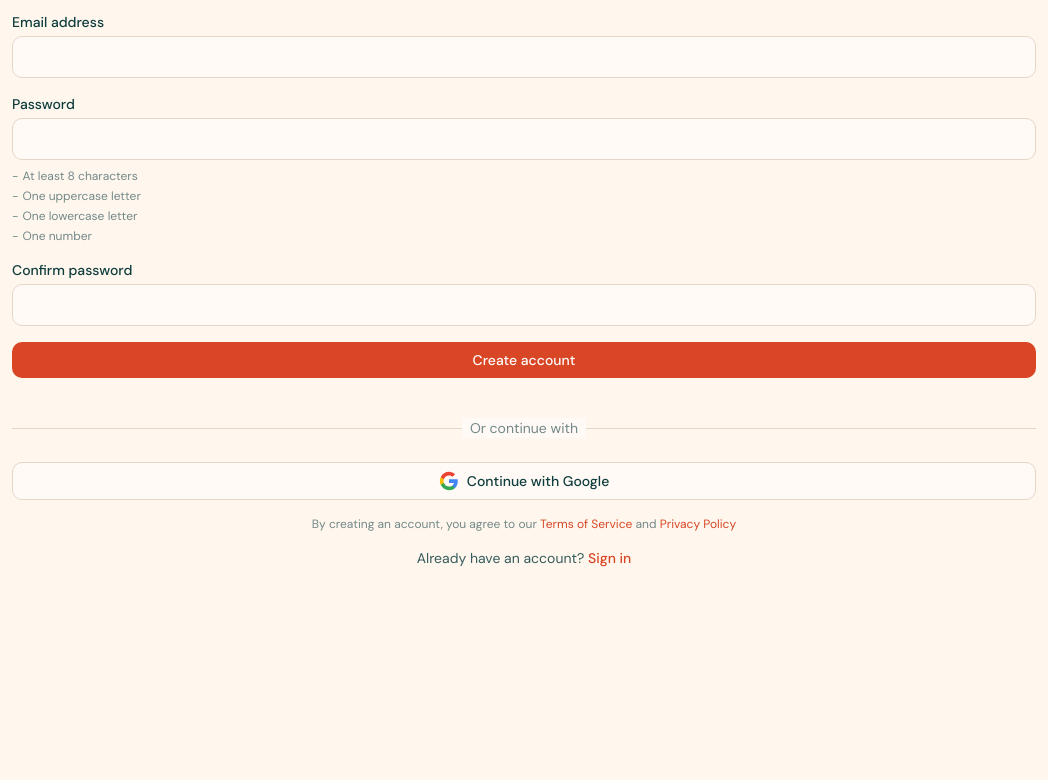
components/auth/SignupForm › shows validation error for weak password
Type "test@example.com" into the field labelled "Email address".
click(524, 57); type("test@example.com")  # box [12, 36, 1036, 78]
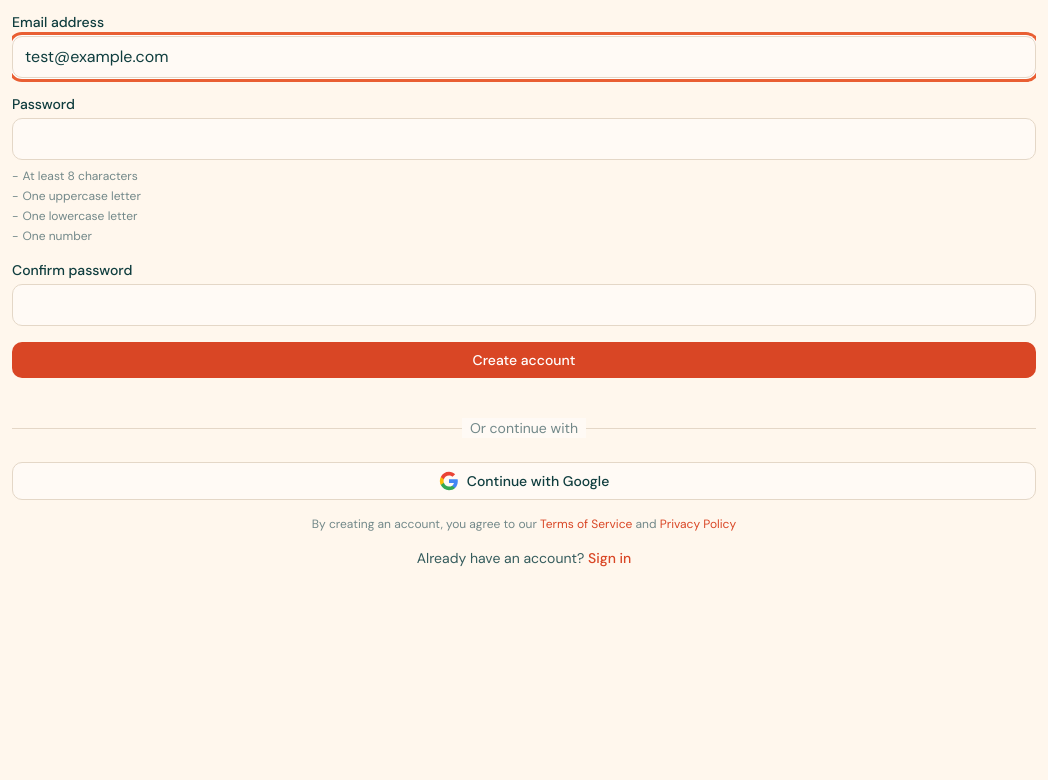
Type "weak" into the password field labelled "Password".
click(524, 139); type("weak")  # box [12, 118, 1036, 160]
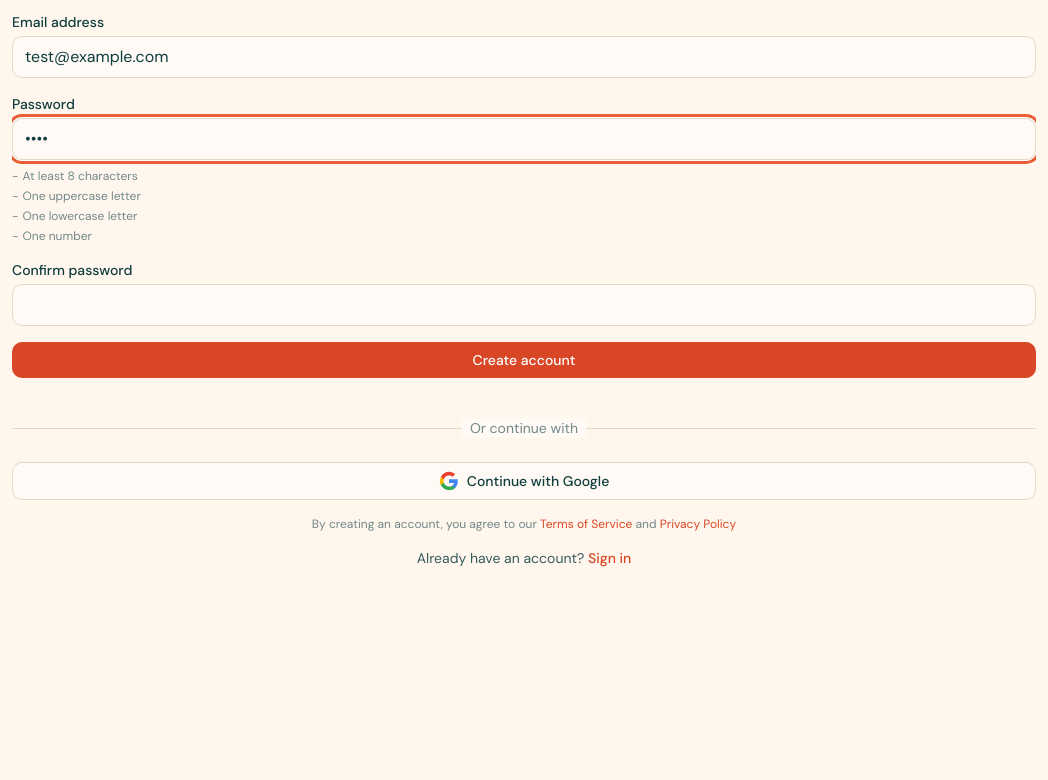
Type "weak" into the password field labelled "Confirm password".
click(524, 305); type("weak")  # box [12, 284, 1036, 326]
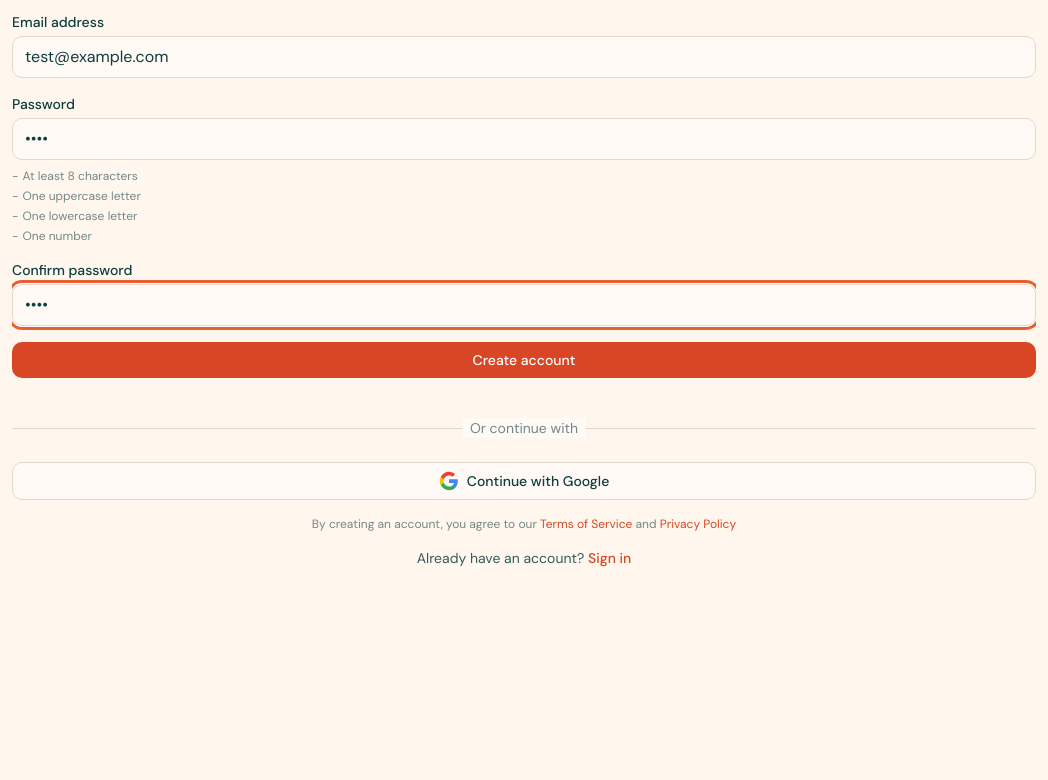
Click the button "Create account".
click(524, 360)  # box [12, 342, 1036, 378]
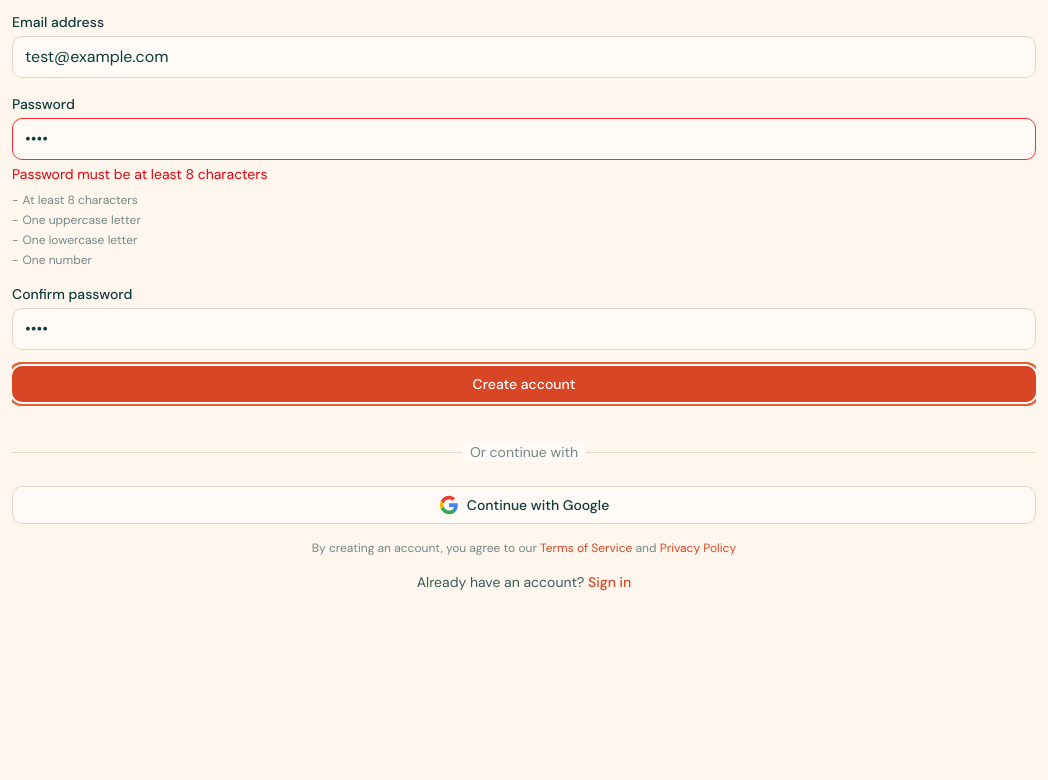
Expected: the text "Password must be at least 8 characters" is shown, [12, 165, 267, 183]
